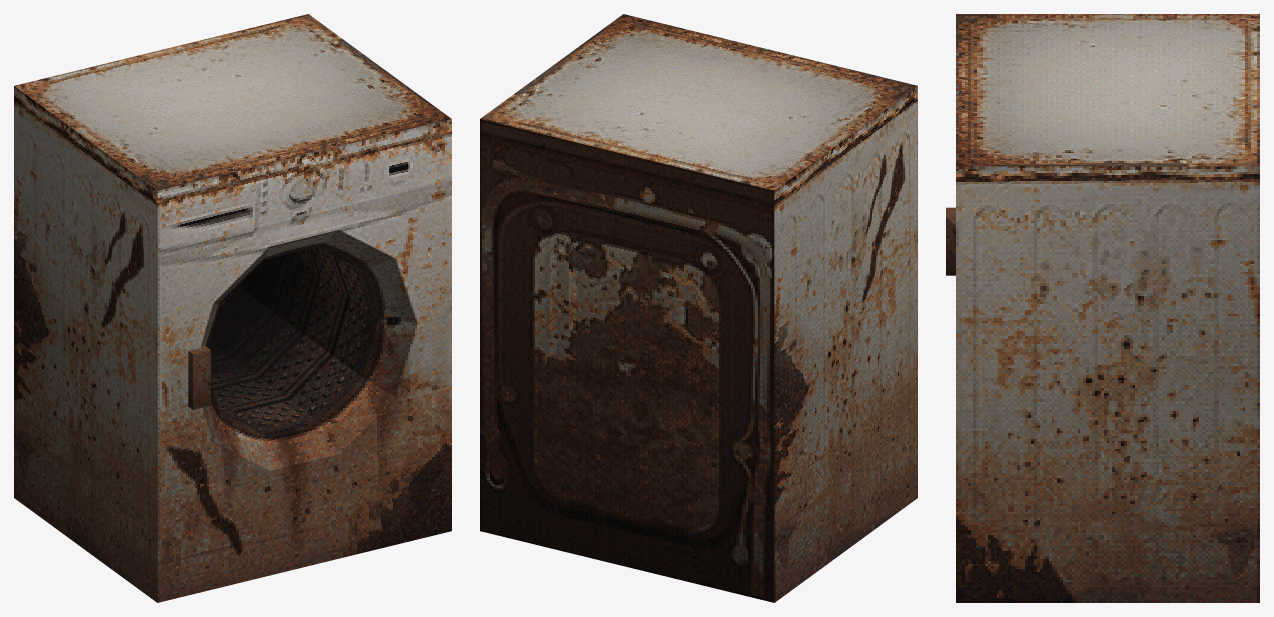
File: washing-machine_dirty.glb
The picture shows the model from 3 angles, left to right: view 1: azimuth 30°, elevation 25°; view 2: azimuth 150°, elevation 25°; view 3: azimuth 270°, elevation 25°; orthographic projection. The views are drawn at different scales.
Visible parts, largest first — view 1: washing-machine_dirty-col; view 2: washing-machine_dirty-col; view 3: washing-machine_dirty-col.
Boxes of the visible parts, x1=… form: washing-machine_dirty-col: x1=14, y1=14, x2=451, y2=602; washing-machine_dirty-col: x1=480, y1=14, x2=917, y2=602; washing-machine_dirty-col: x1=946, y1=14, x2=1259, y2=602.
Size of the model in its own units: 0.74 by 0.99 by 0.6449.
Materials: 1 (1 with a texture image).
